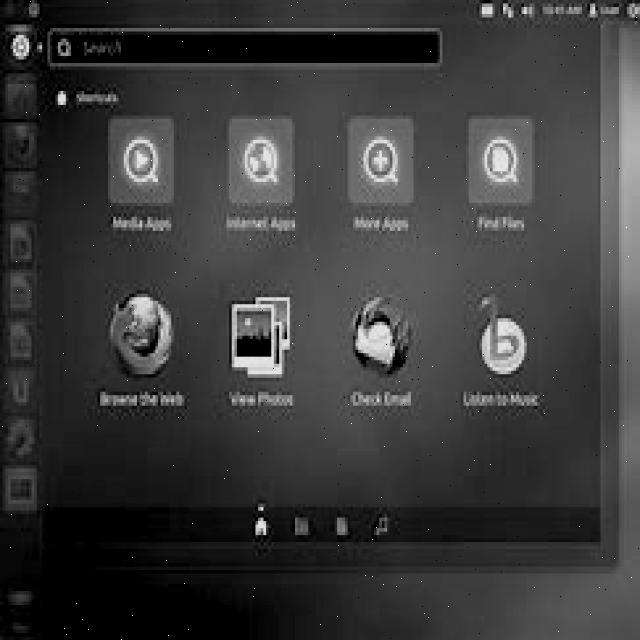button: (461, 112, 538, 210), (346, 112, 416, 210), (107, 114, 175, 207), (228, 116, 294, 206)
icon: (225, 290, 302, 386), (458, 288, 536, 380), (347, 289, 420, 382), (106, 289, 175, 378), (53, 81, 70, 113)
input: (46, 25, 449, 72), (251, 504, 271, 538)
label: (96, 385, 192, 411), (457, 385, 546, 412), (221, 215, 304, 238), (346, 386, 418, 412), (224, 386, 298, 410), (105, 212, 176, 236), (348, 212, 414, 237), (474, 212, 534, 238), (74, 85, 124, 108)
menu: (0, 17, 37, 640), (41, 507, 601, 543)
